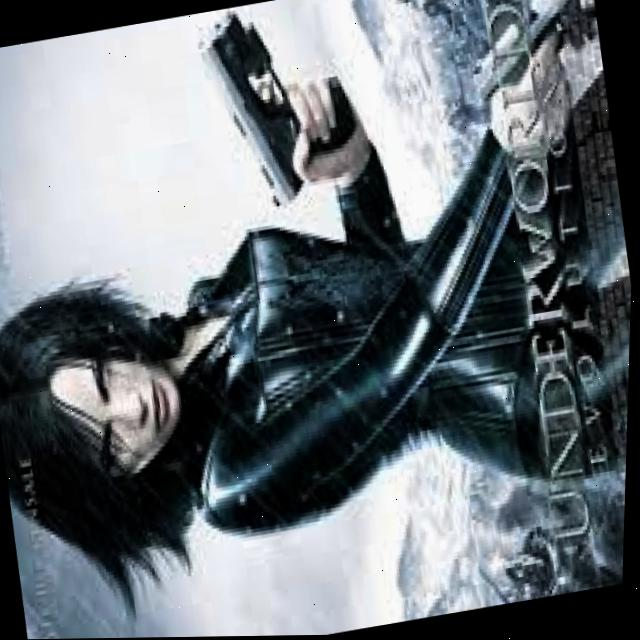pistol: (187, 4, 318, 220), (450, 0, 608, 108)
